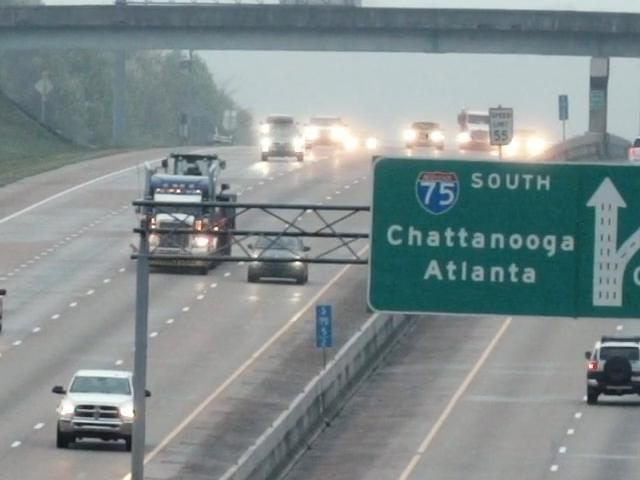car: (48, 368, 143, 458), (583, 334, 640, 416), (246, 235, 310, 285), (259, 115, 307, 162), (457, 109, 496, 151), (306, 115, 348, 150), (404, 120, 446, 154), (627, 134, 640, 163)
truck: (137, 150, 237, 273)
